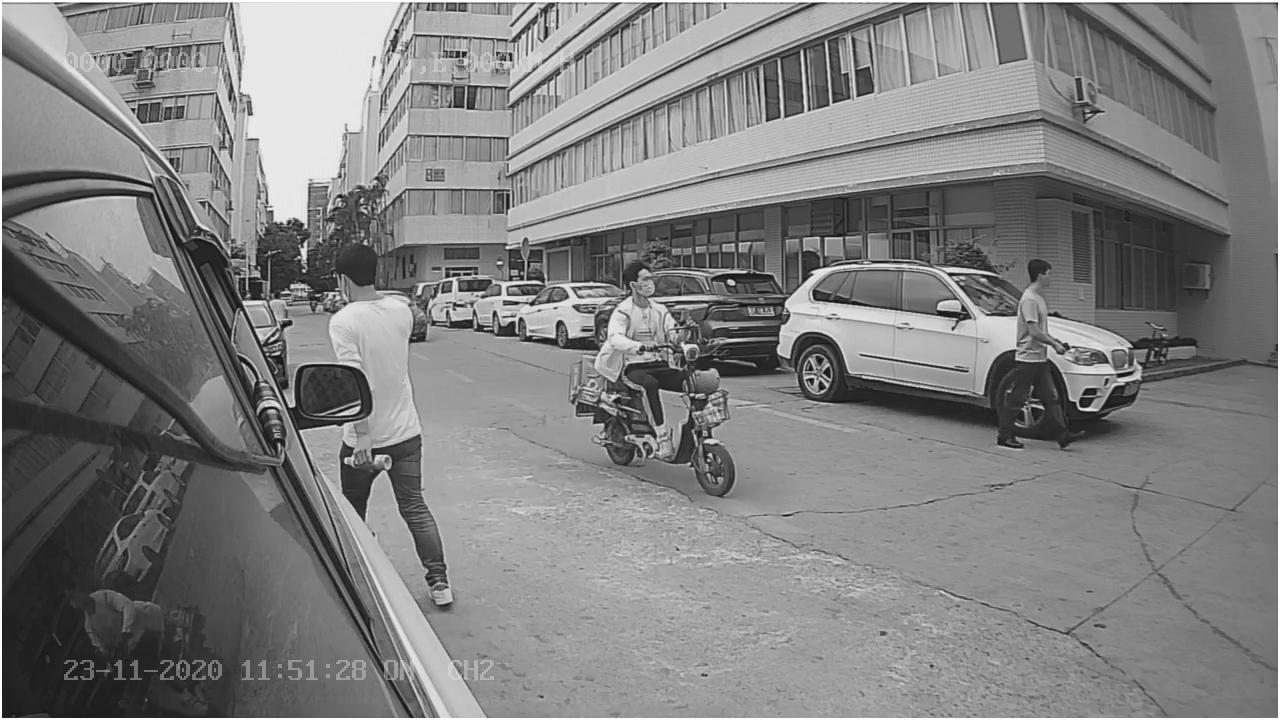person: (993, 243, 1083, 454), (323, 238, 433, 360), (601, 250, 698, 358)
